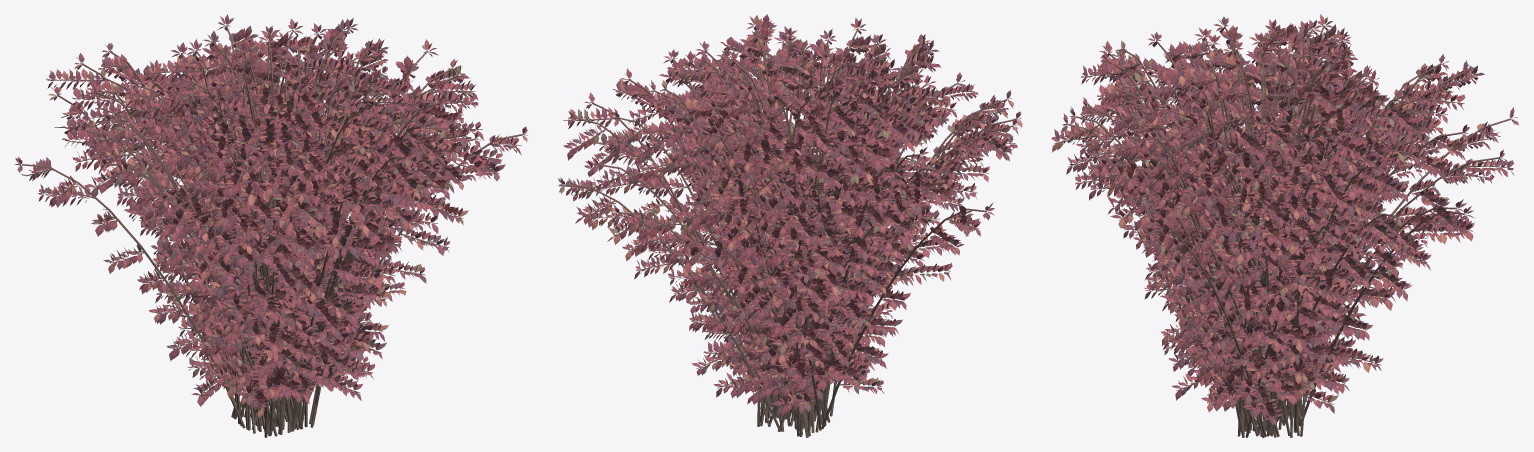
The model's file is barberry-thunberg-forma-original.glb.
3 renders of one model, left to right at view 1: azimuth 30°, elevation 25°; view 2: azimuth 150°, elevation 25°; view 3: azimuth 270°, elevation 25°, orthographic. The views are drawn at different scales.
Parts seen in each view (by area): view 1: burgundy, ruby, plum, twig, copper, dusk, bark, olive, thorn; view 2: burgundy, ruby, plum, twig, copper, dusk, olive, bark, thorn; view 3: burgundy, ruby, plum, twig, copper, dusk, olive, bark, thorn.
Part boxes in pixels (box(x1,y1,x2,y2)): burgundy: box(15, 14, 527, 407); ruby: box(18, 18, 518, 404); plum: box(15, 19, 526, 410); twig: box(22, 25, 522, 410); copper: box(18, 21, 527, 418); dusk: box(32, 18, 499, 411); bark: box(140, 171, 402, 437); olive: box(39, 25, 516, 396); thorn: box(20, 44, 512, 389); burgundy: box(559, 14, 1021, 415); ruby: box(568, 20, 1021, 411); plum: box(558, 16, 1018, 405); twig: box(559, 25, 1015, 406); copper: box(568, 15, 1022, 406); dusk: box(558, 24, 1015, 416); olive: box(560, 30, 1009, 407); bark: box(679, 179, 901, 437); thorn: box(582, 42, 998, 395); burgundy: box(1059, 18, 1514, 425); ruby: box(1051, 14, 1514, 418); plum: box(1054, 16, 1513, 425); twig: box(1054, 25, 1513, 420); copper: box(1052, 17, 1517, 412); dusk: box(1059, 19, 1518, 417); olive: box(1054, 30, 1491, 407); bark: box(1180, 168, 1376, 437); thorn: box(1068, 38, 1499, 395).
Size of the model in its own units: 1.39 by 1.11 by 1.27.
Materials: 10 (8 with a texture image).
